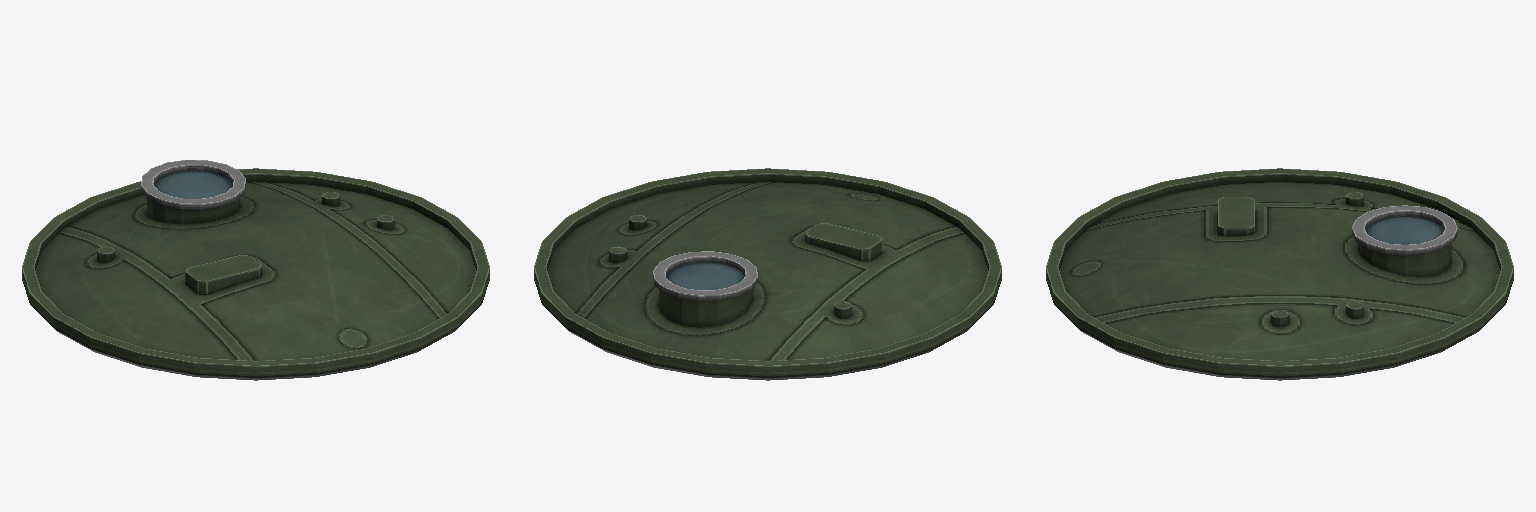
3 views of the same model, side by side, from view 1: azimuth 30°, elevation 25°; view 2: azimuth 150°, elevation 25°; view 3: azimuth 270°, elevation 25° (orthographic).
Visible parts, largest first — view 1: 2, w2; view 2: 2, w2; view 3: 2, w2.
Part boxes in pixels (x1,y1,x2,y2): 2: (22,160,489,380); w2: (154,171,232,198); 2: (534,168,1001,380); w2: (666,262,744,289); 2: (1046,168,1513,380); w2: (1366,216,1443,244).
Bounding box in the file's own units: 0.9375 × 0.125 × 0.9375.
Materials: 2 (1 with a texture image).